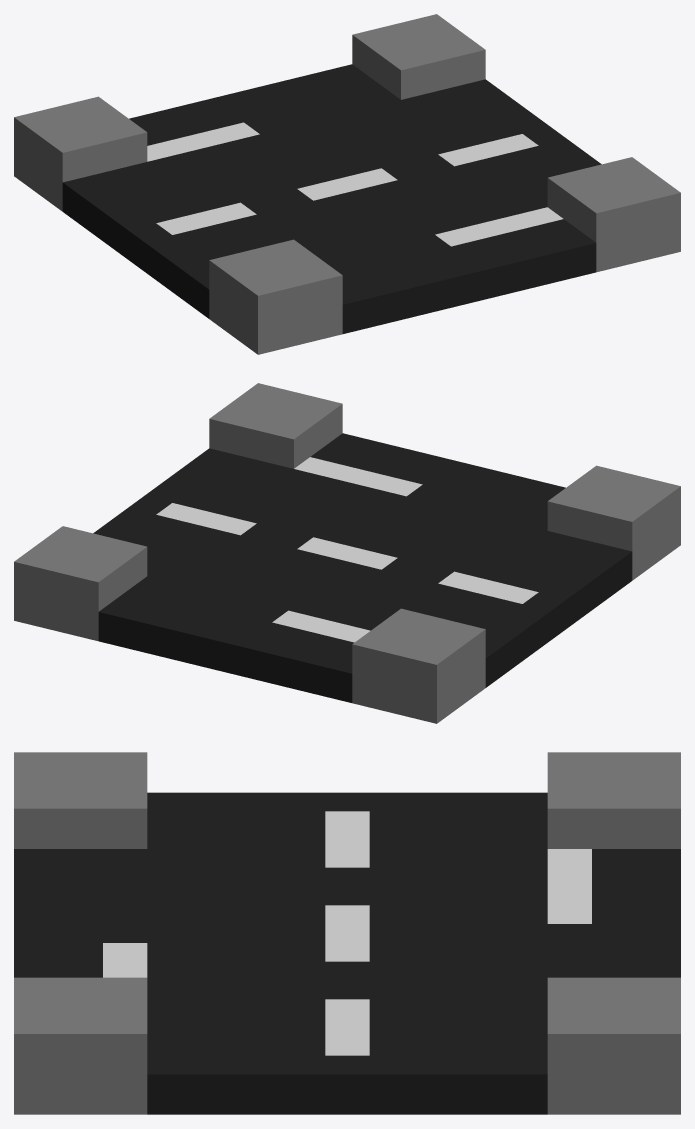
File: Intersection01.obj
The picture shows the model from 3 angles, top to bottom: view 1: azimuth 30°, elevation 25°; view 2: azimuth 150°, elevation 25°; view 3: azimuth 270°, elevation 25°; orthographic projection. The views are drawn at different scales.
Visible parts, largest first — view 1: Intersection01; view 2: Intersection01; view 3: Intersection01.
Boxes of the visible parts, x1=… form: Intersection01: x1=14, y1=14, x2=680, y2=354; Intersection01: x1=14, y1=383, x2=680, y2=723; Intersection01: x1=14, y1=752, x2=680, y2=1114.
Bounding box in the file's own units: 1.5 × 0.2 × 1.5.
Materials: 1 (1 with a texture image).
